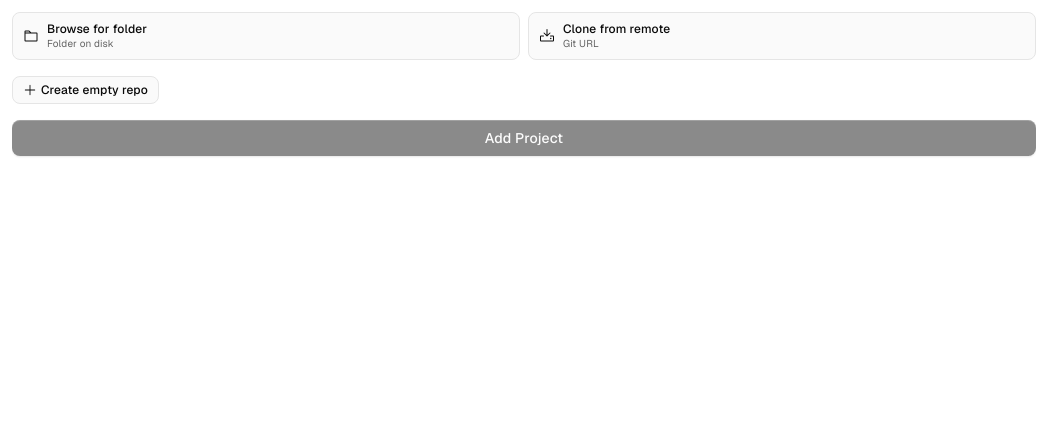
Test: ProjectCreationForm git identity › rejects an invalid email without saving or creating anything
This screenshot has width=1048, height=422.
Click the button "Browse for folder Folder on disk" at (97, 29), box x1=12 y1=12 x2=520 y2=60
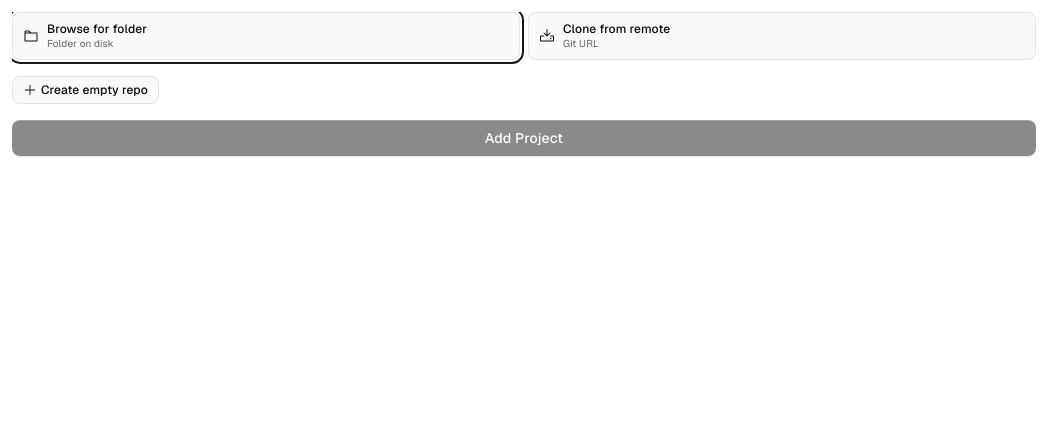
Click the button "Create empty repo" at (85, 90), box x1=12 y1=76 x2=159 y2=104
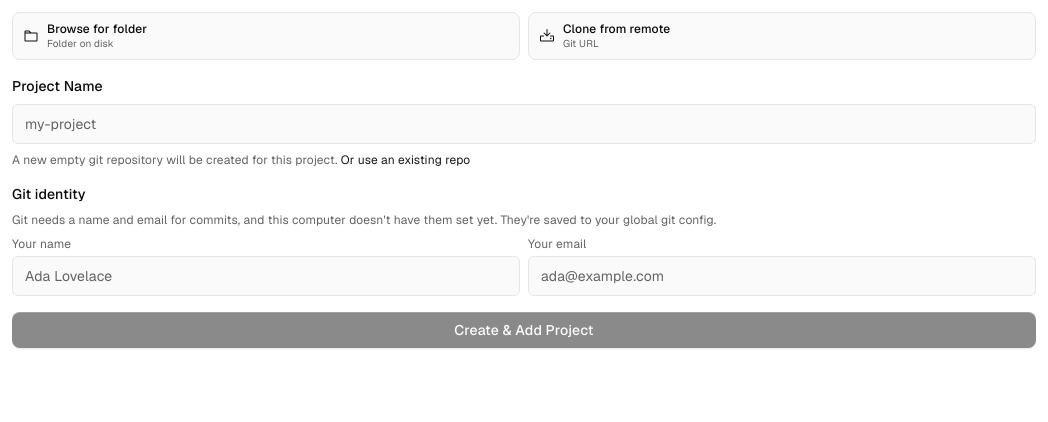
Type "helloo" into the field labelled "Project Name" at (524, 124), box x1=12 y1=104 x2=1036 y2=144
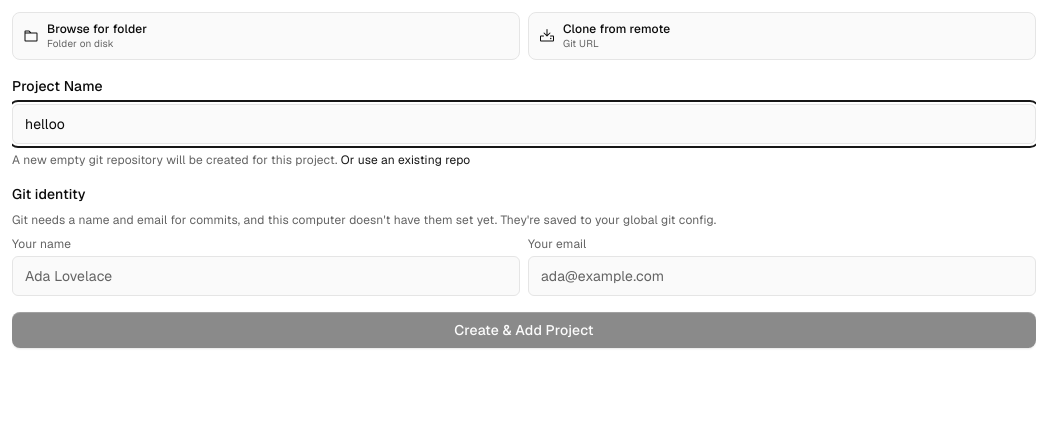
Type "Ada" into the field labelled "Your name" at (266, 276), box x1=12 y1=256 x2=520 y2=296
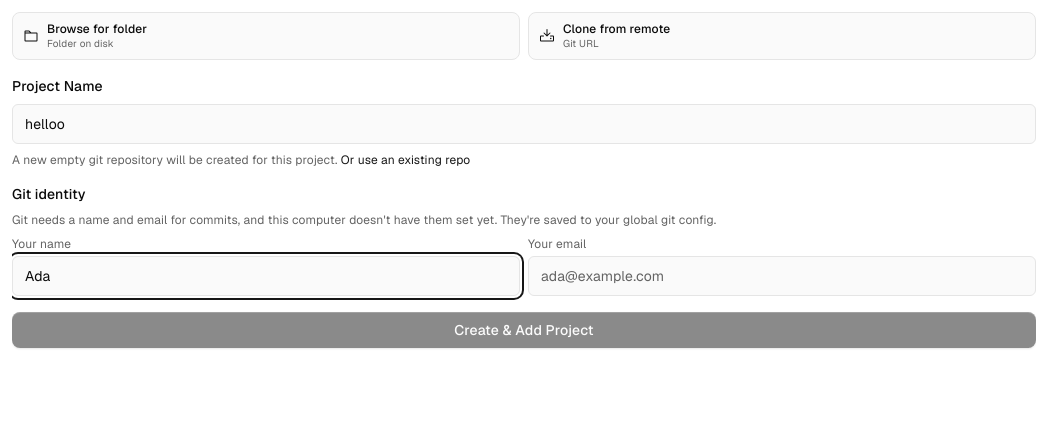
Type "ada" into the field labelled "Your email" at (782, 276), box x1=528 y1=256 x2=1036 y2=296
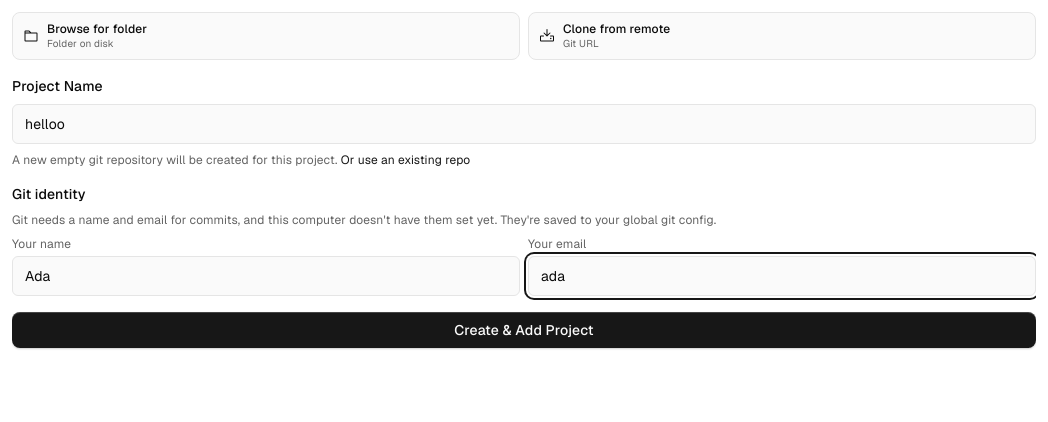
Click the button "Create & Add Project" at (524, 330), box x1=12 y1=312 x2=1036 y2=348
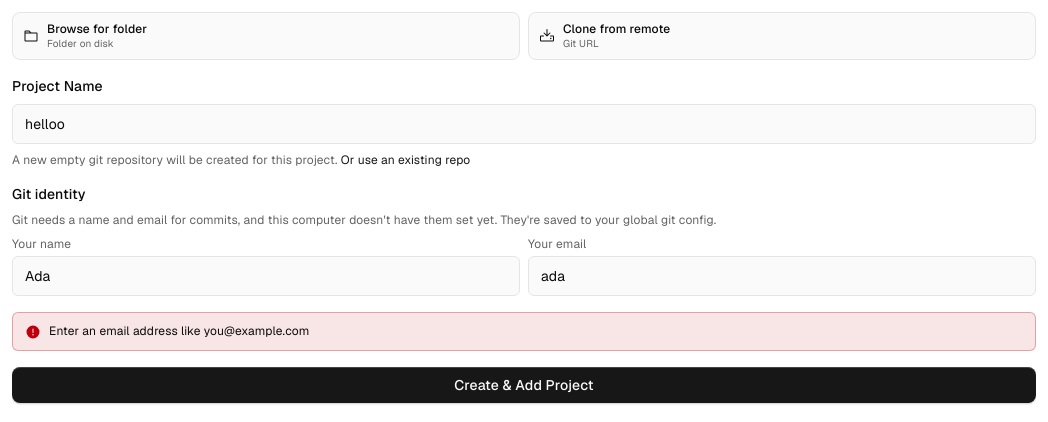
Check: the message reads "Enter an email address like you@example.com", box x1=49 y1=323 x2=309 y2=339
